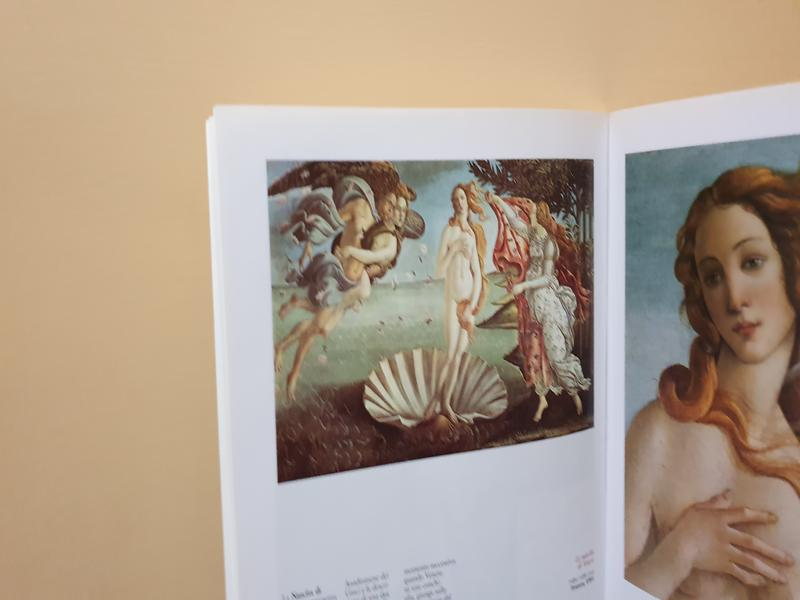Venere: (259, 147, 598, 483)
